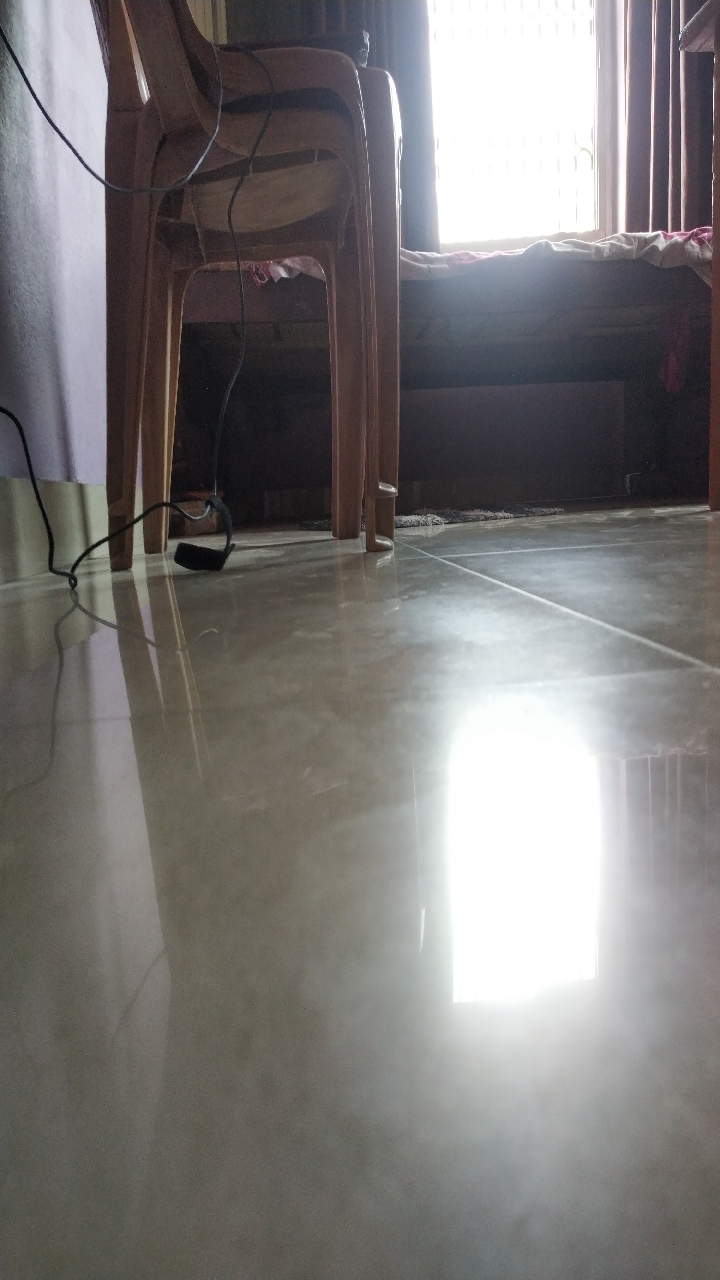Furnitures: (91, 307, 429, 591)
cables: (10, 394, 250, 599), (6, 17, 272, 198)
